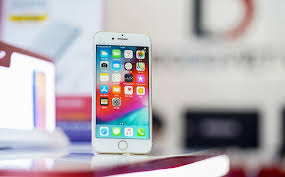iphone: (90, 30, 154, 159)
iphone7: (89, 30, 153, 159)
